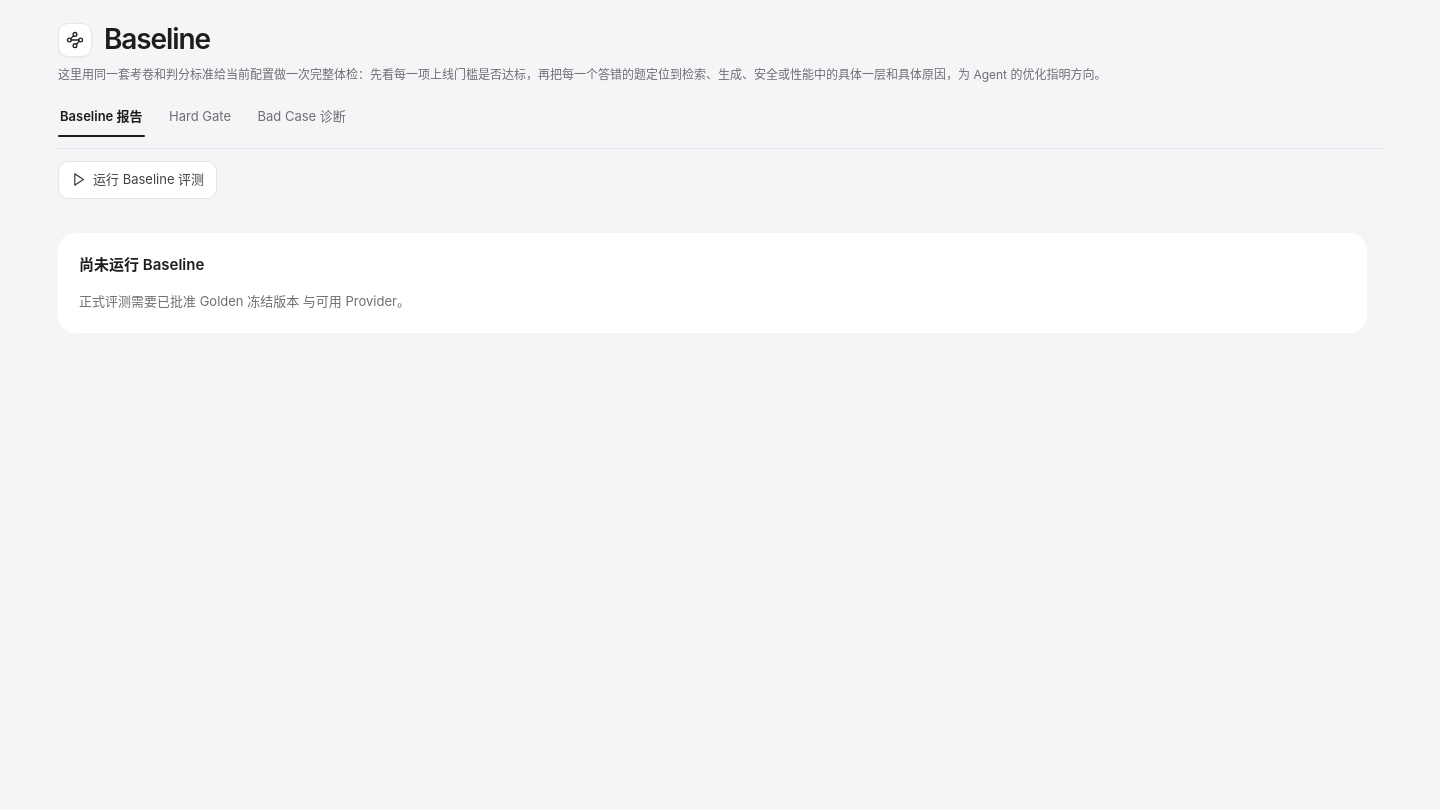
it: confirms before any Baseline start request (not_run)
Later steps or results of the test are not shown.
Click the button "运行 Baseline 评测" at coordinates (138, 180), box [58, 161, 217, 199]
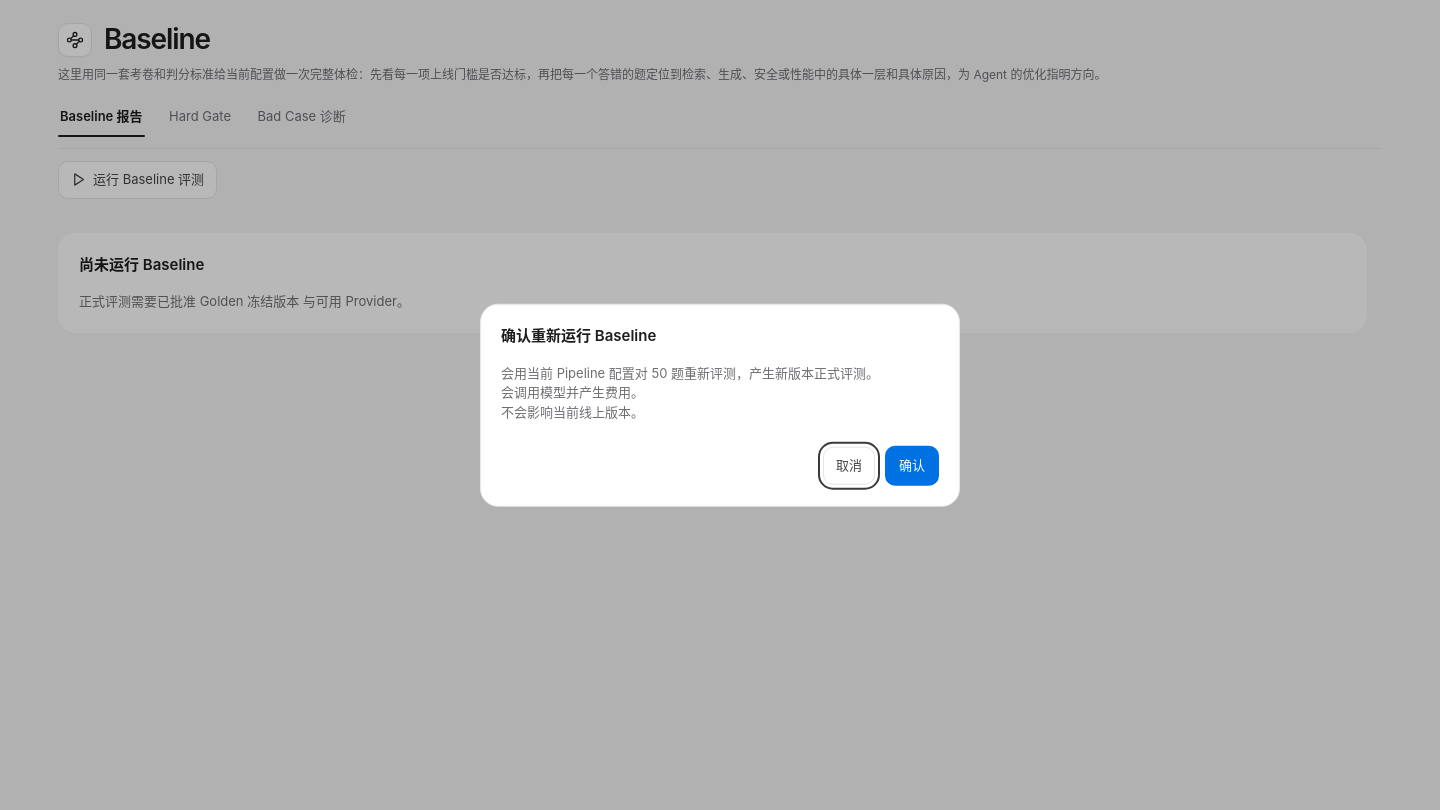
Expected: the dialog with class "confirm-dialog" is shown, [480, 304, 960, 506]
Expected: the button "取消" is shown
Click the button "取消" at coordinates (849, 466), box [823, 447, 875, 484]
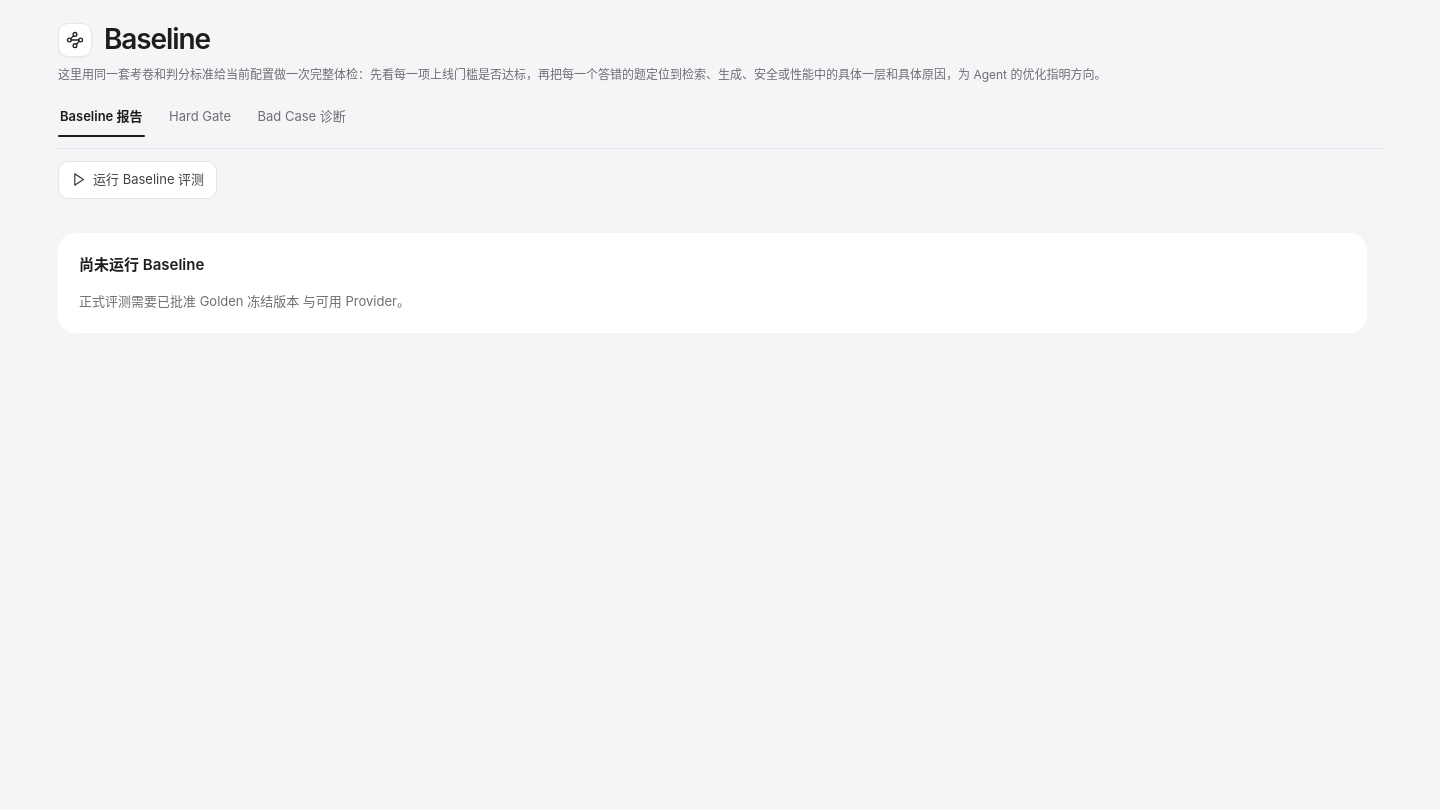
Expected: the dialog with class "confirm-dialog" is gone
Click the button "运行 Baseline 评测" at coordinates (138, 180), box [58, 161, 217, 199]
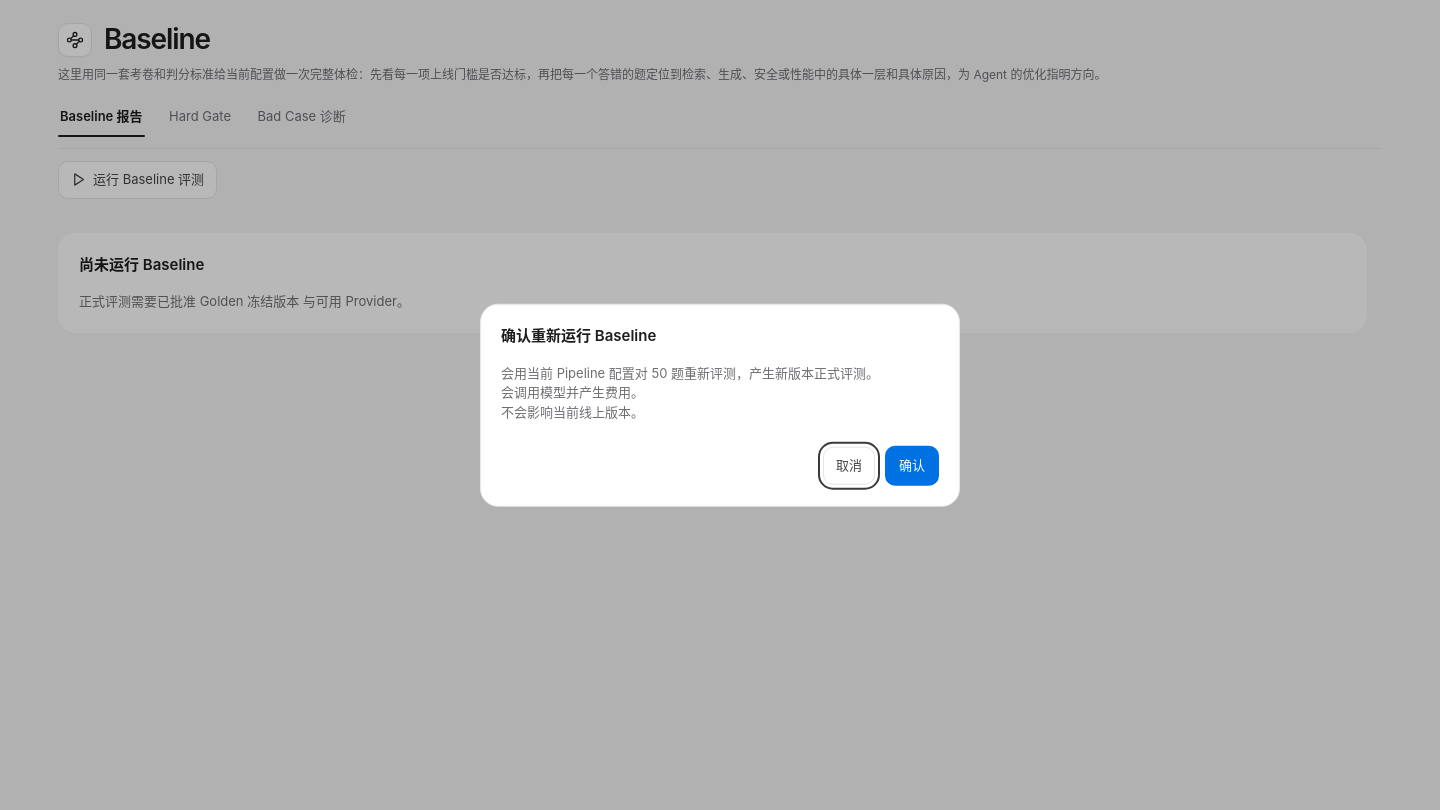
Expected: the dialog with class "confirm-dialog" shows "会调用模型并产生费用", [501, 384, 644, 400]
Expected: the dialog with class "confirm-dialog" shows "不会影响当前线上版本", [501, 403, 644, 419]
Expected: the dialog with class "confirm-dialog" shows "当前 Pipeline 配置对 50 题重新评测", [501, 364, 879, 380]
